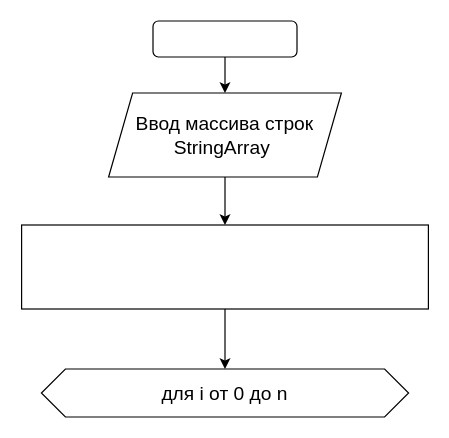
Image size: 449x438. Some labels were removed from this diagram. The shapes that lost their labels are listed below. From the top down, each one's centre as x and y in pixels, then its label:
point 224,38: Start
point 224,266: n = StringArray.Length j = 0; Заданная длина строки: ElementLength = 3;
